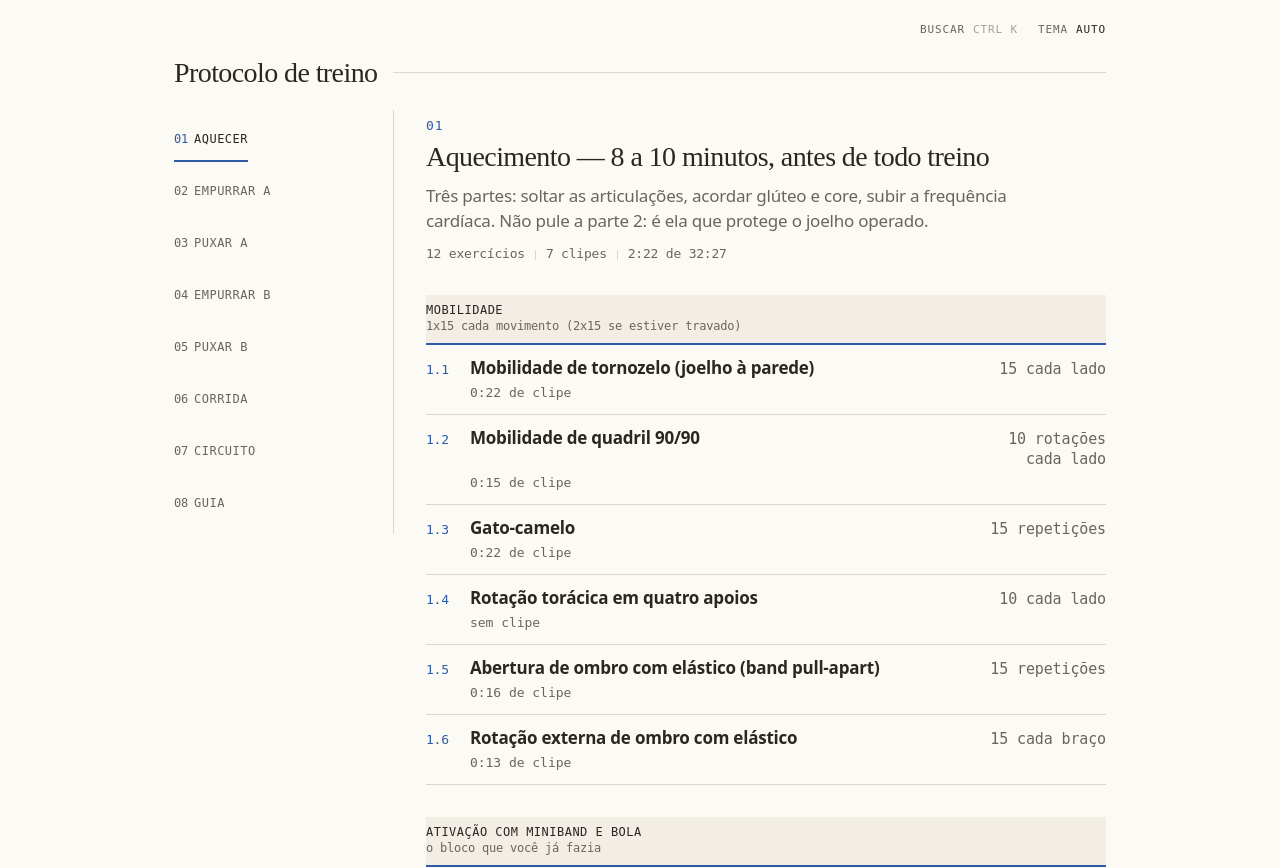
Scenario: App › troca de divisão pelo índice e escreve a rota
Click the button "02 Empurrar A".
click(223, 192)  # box [174, 170, 271, 214]
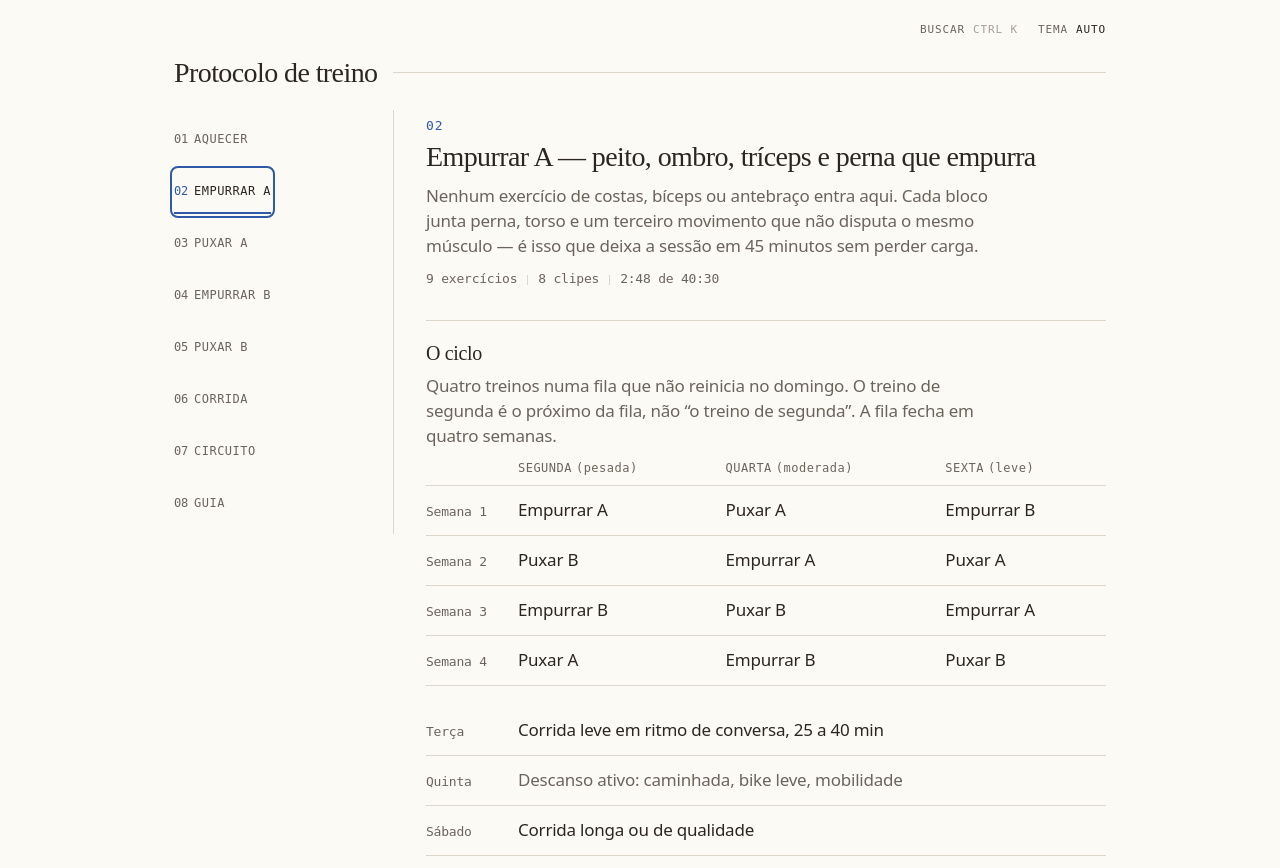
Check: the heading "Empurrar A — peito, ombro, tríceps e perna que empurra" is shown, box [426, 140, 1106, 174]
